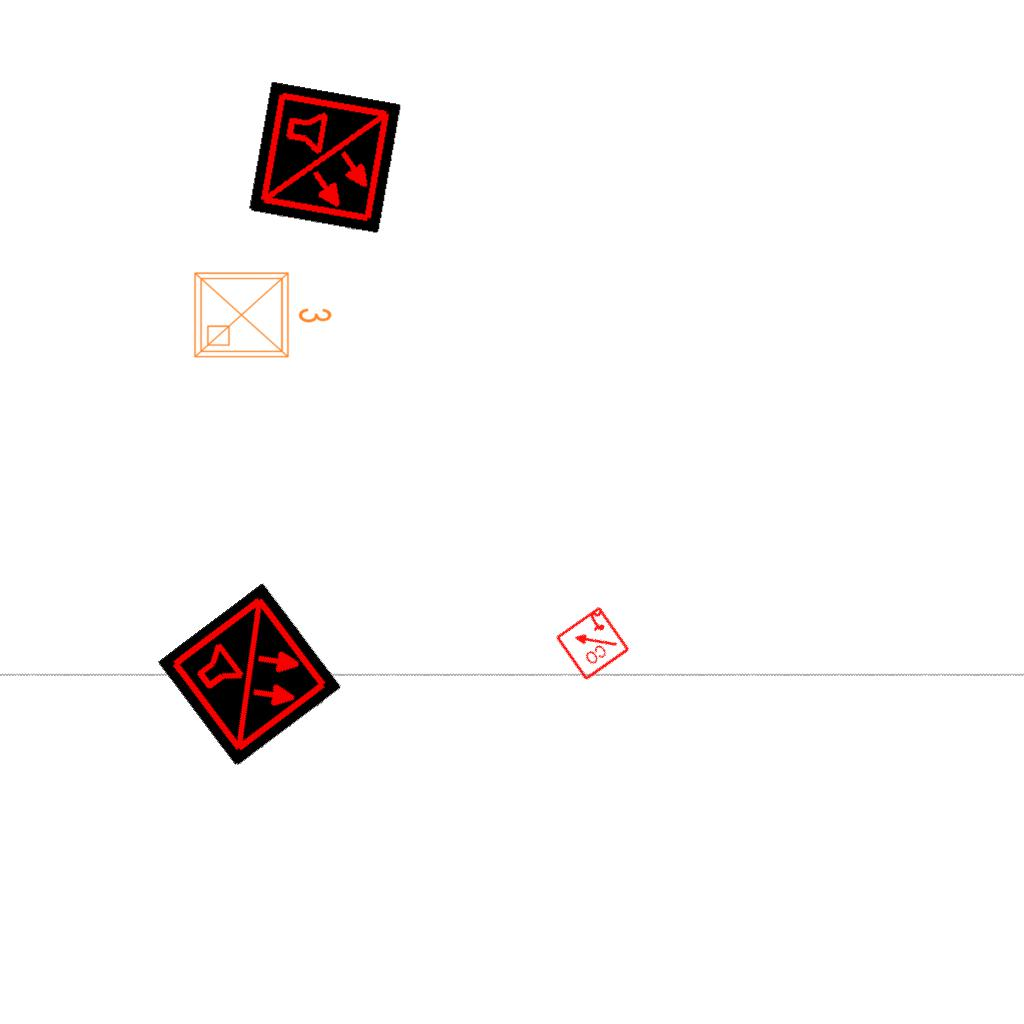Einbaudownlights_LED_Konferenzraeume: (187, 261, 337, 365)
OKW_Multisensormelder_(Kombination_optischer_Rauch-Kahlenmonoxid_Waerme-Melder): (157, 582, 343, 768), (248, 81, 402, 235)
ROA_Rauchmelder_optisch_mit_Signalgeber_(Sockelsirene): (553, 604, 631, 682)
